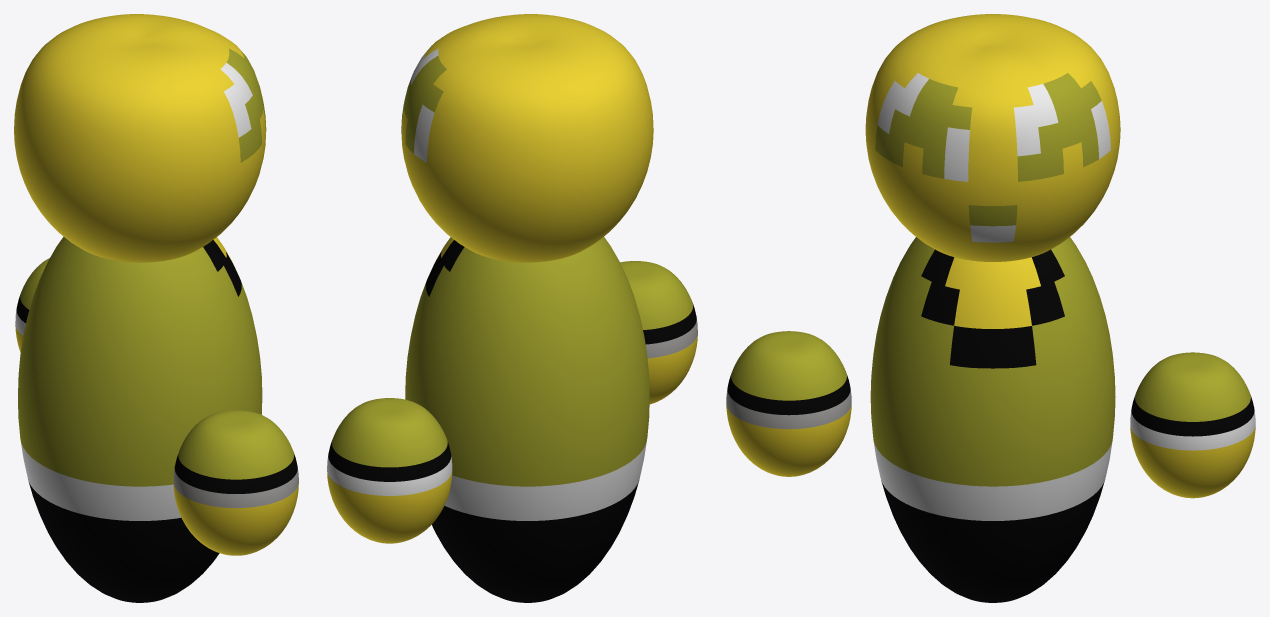
File: relationshipyellow.fbx
3 renders of one model, left to right at view 1: azimuth 30°, elevation 25°; view 2: azimuth 150°, elevation 25°; view 3: azimuth 270°, elevation 25°, orthographic.
Parts seen in each view (by area): view 1: Body, Head, Arm 1, Arm 2; view 2: Body, Head, Arm 2, Arm 1; view 3: Body, Head, Arm 2, Arm 1.
Part boxes in pixels (x1,y1,x2,y2): Body: (18,236,262,602); Head: (14,14,266,262); Arm 1: (173,410,298,555); Arm 2: (15,258,49,352); Body: (405,237,649,602); Head: (401,14,653,262); Arm 2: (327,398,452,543); Arm 1: (620,261,697,404); Body: (870,237,1115,602); Head: (865,14,1120,261); Arm 2: (1130,352,1255,498); Arm 1: (726,331,851,476).
Size of the model in its own units: 203 by 497 by 427.
